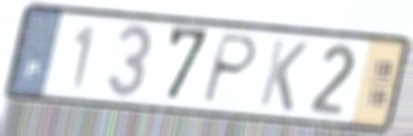1: (71, 23, 97, 91)
2: (306, 42, 359, 119)
3: (104, 21, 154, 102)
7: (165, 23, 211, 106)
K: (255, 36, 311, 115)
P: (198, 31, 261, 107)
